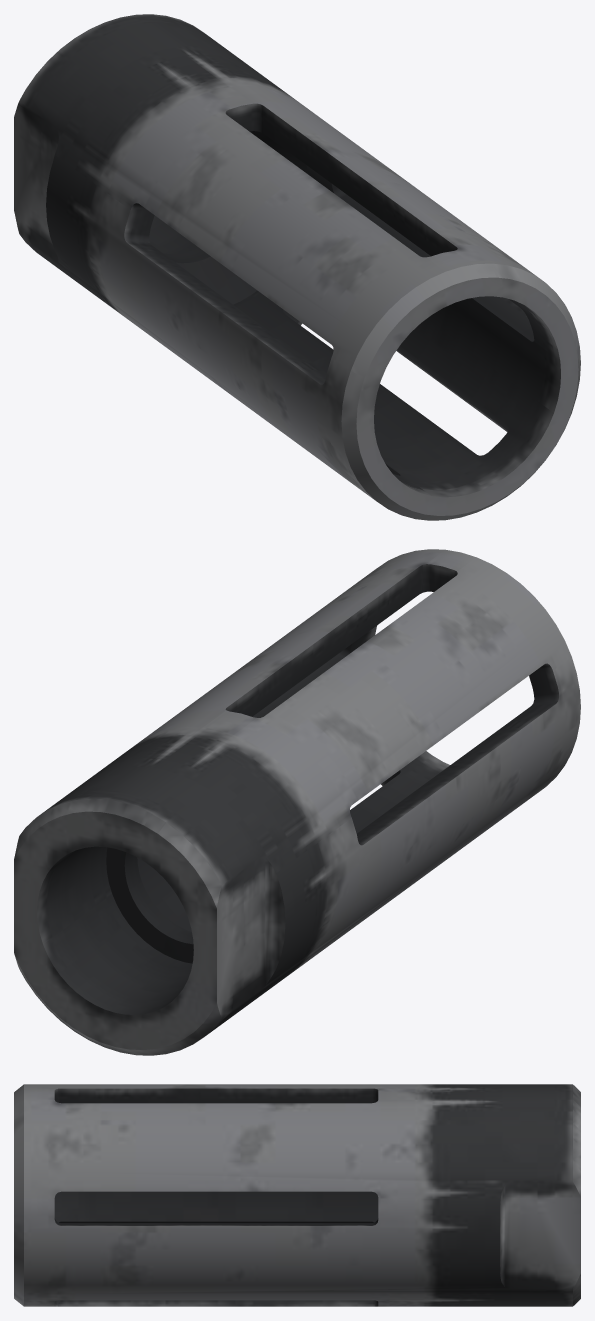
File: muzzle_flash_ar.glb
3 renders of one model, top to bottom at view 1: azimuth 30°, elevation 25°; view 2: azimuth 150°, elevation 25°; view 3: azimuth 270°, elevation 25°, orthographic. The views are drawn at different scales.
Visible parts, largest first — view 1: body; view 2: body; view 3: body.
Boxes of the visible parts, <box> form: body: <box>14,14,580,520</box>; body: <box>14,549,580,1055</box>; body: <box>14,1084,580,1306</box>.
Bounding box in the file's own units: 0.022 × 0.022 × 0.056.
Materials: 1 (1 with a texture image).
